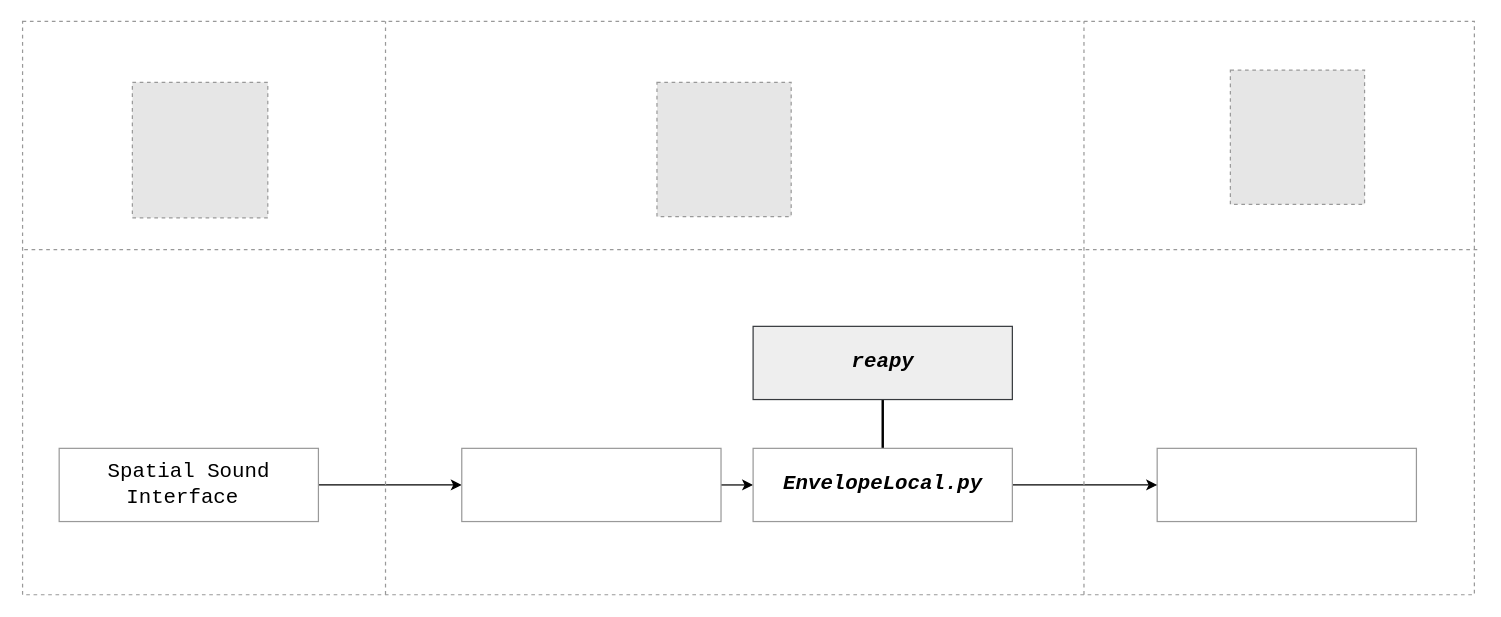
This 1501x617 diagram has some shape labels left out. Grey dashed boxes stand in for pictures. The shapes that lost their labels are listed below. From the top down, each one's centre as x and y in pixels, then its label:
the point at 591,484: ReaperConnector.py
the point at 1286,484: REAPER
